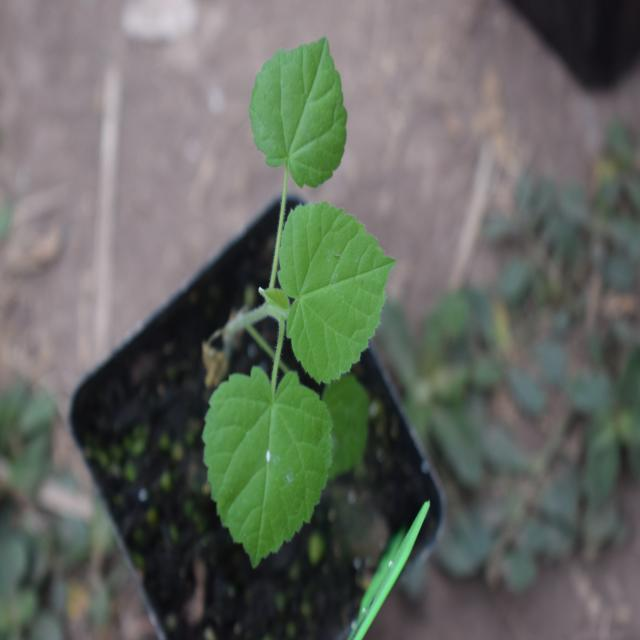abutilon theophrasti: (198, 36, 400, 549)
